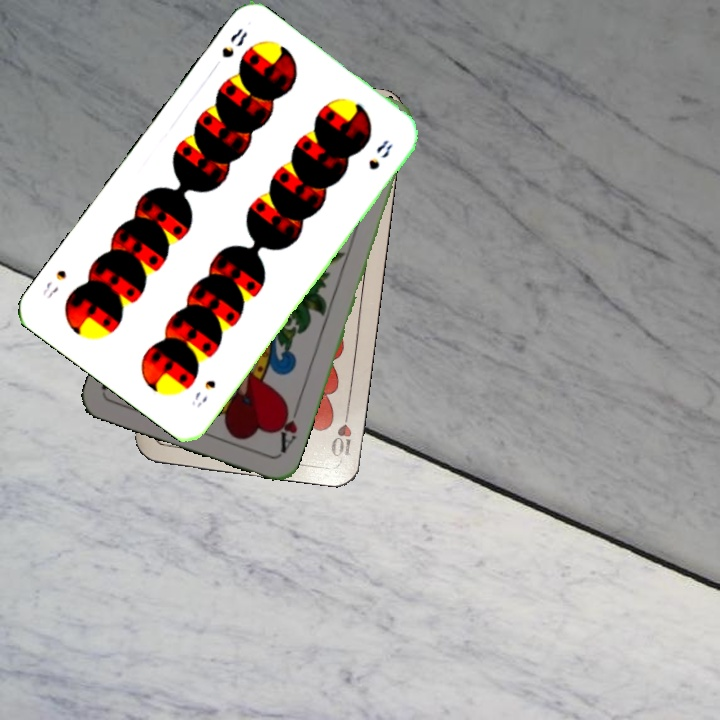H10: (326, 402, 355, 461)
HA: (273, 399, 303, 456)
S8: (217, 24, 251, 61), (187, 375, 219, 411)
